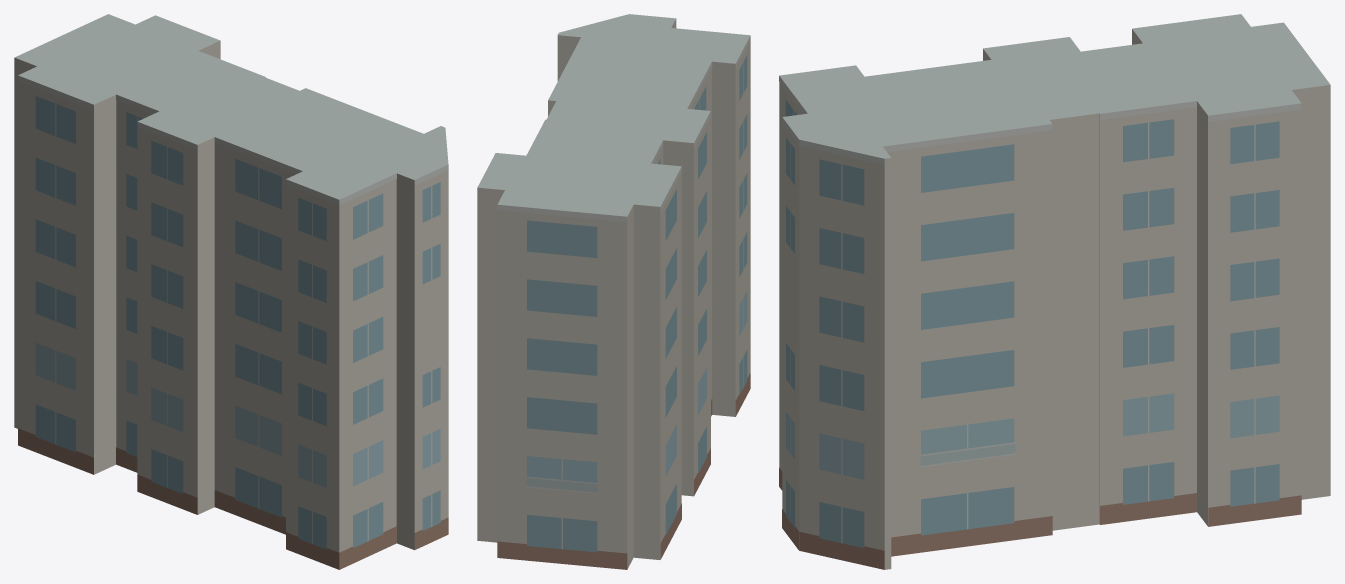
The model's file is survey-upis-32612480.glb.
3 renders of one model, left to right at view 1: azimuth 30°, elevation 25°; view 2: azimuth 150°, elevation 25°; view 3: azimuth 270°, elevation 25°, orthographic. The views are drawn at different scales.
Visible parts, largest first — view 1: survey-upis-32612480.tmp; view 2: survey-upis-32612480.tmp; view 3: survey-upis-32612480.tmp.
Boxes of the visible parts, <box> form: survey-upis-32612480.tmp: <box>14,14,448,569</box>; survey-upis-32612480.tmp: <box>477,14,750,569</box>; survey-upis-32612480.tmp: <box>779,14,1330,569</box>.
Size of the model in its own units: 12.17 by 16.1 by 19.58.
